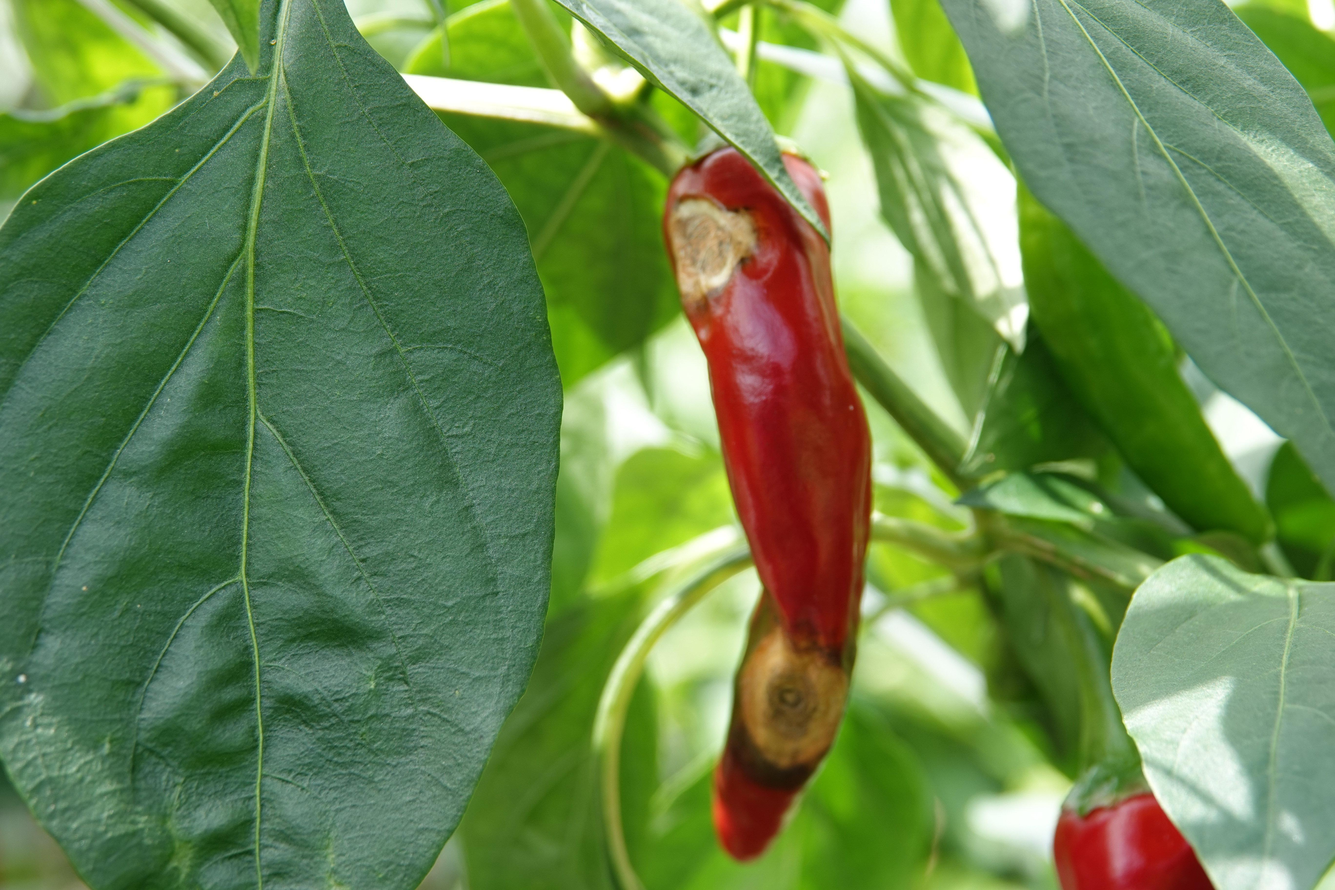Busuk Buah Antraknosa: (658, 141, 876, 863)
Daun Cabai Sehat: (0, 0, 563, 890), (932, 0, 1335, 511), (1108, 540, 1335, 890)
